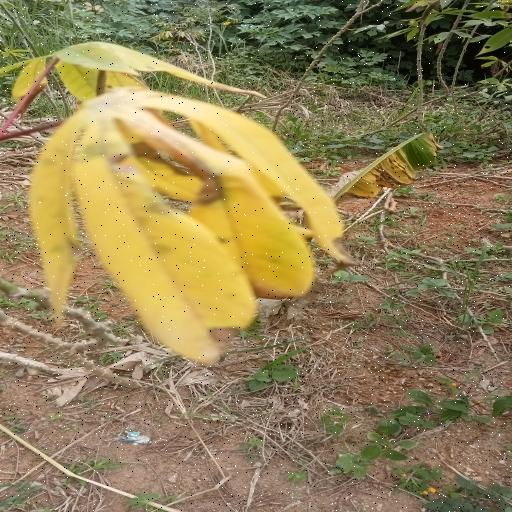Cassava_Brown_Leaf_Spot: (25, 88, 345, 362)
